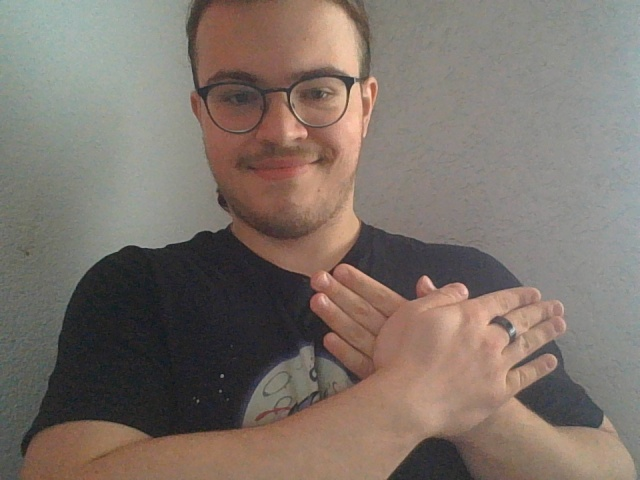Love: (306, 260, 571, 446)
